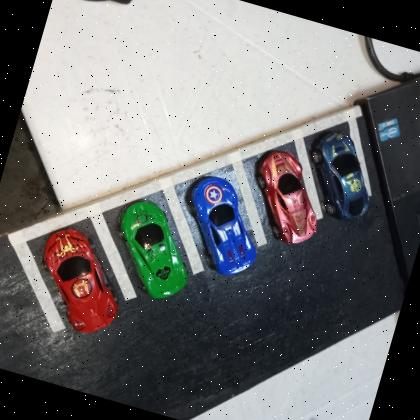Car: (21, 219, 139, 344), (98, 193, 206, 308), (168, 170, 276, 284), (238, 144, 336, 252), (294, 124, 388, 229)
